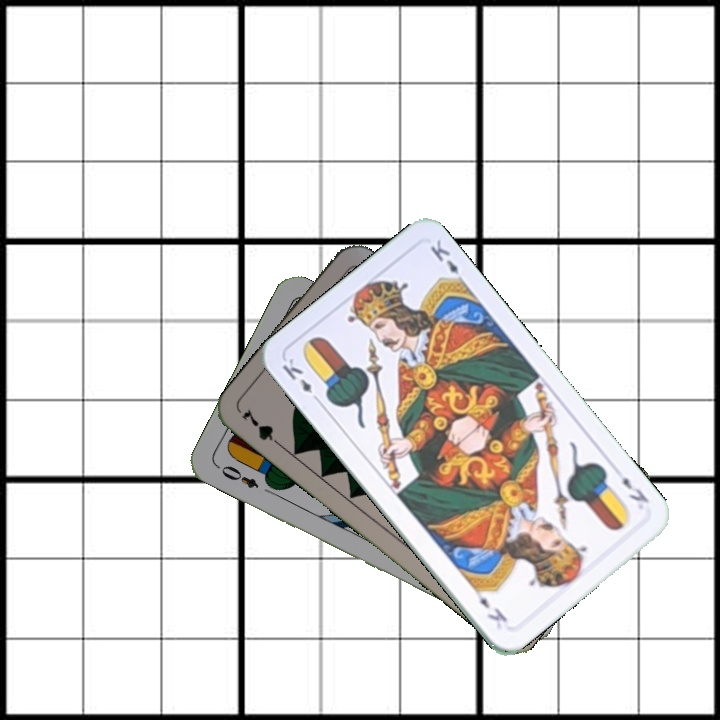EK: (278, 354, 324, 406), (618, 472, 652, 506)
EO: (217, 461, 262, 491)
G7: (237, 404, 287, 452)
